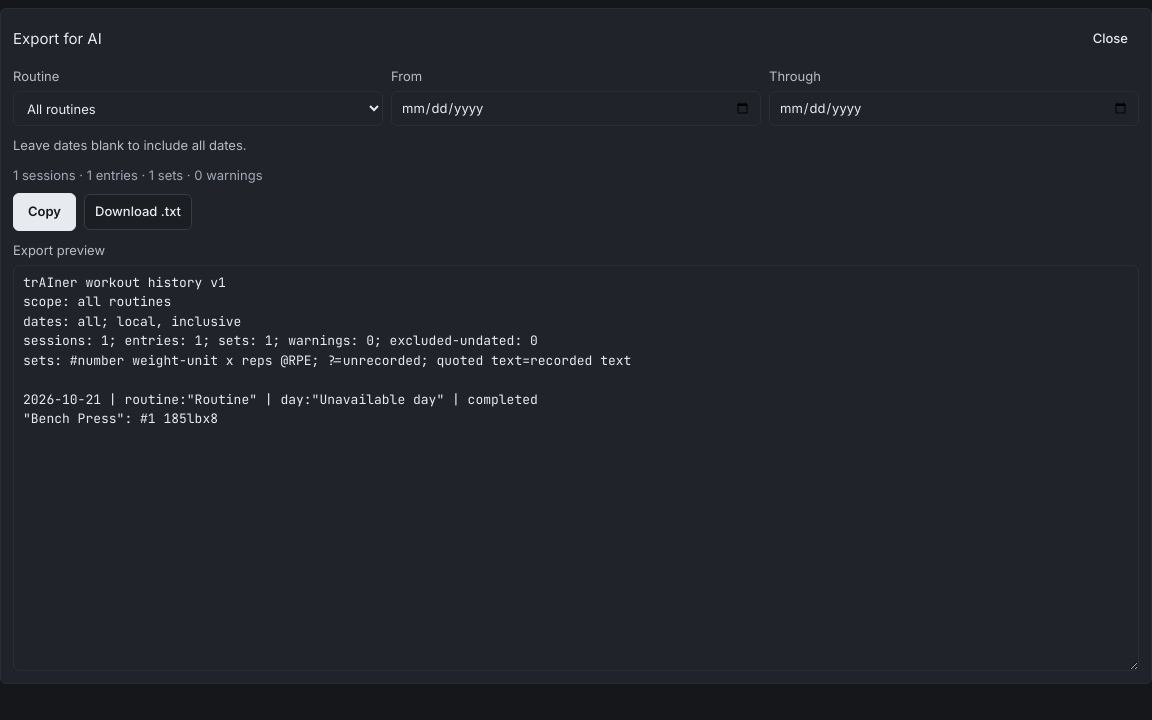
it: HistoryExportPanel › keeps the preview after clipboard rejection
The image size is (1152, 720).
Click the button "Copy". click: (44, 212)
box: top-left (13, 193), bottom-right (76, 231)
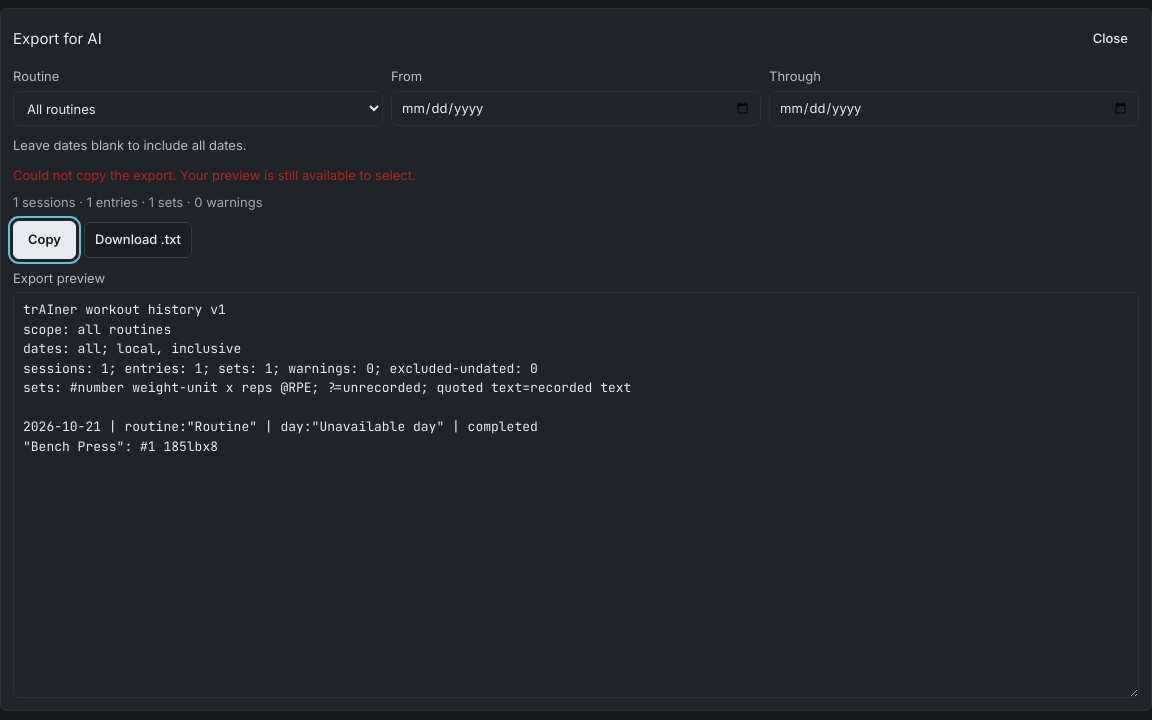
Expected: the message shows "copy", top-left (13, 166), bottom-right (416, 182)
